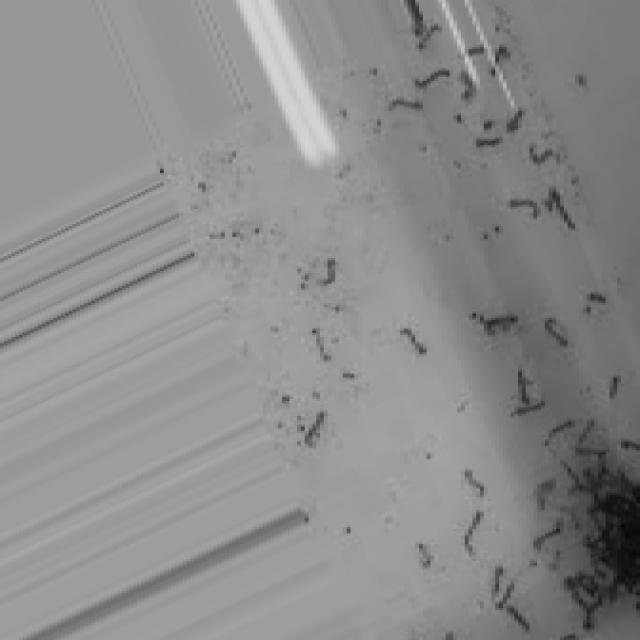larvas: (543, 191, 574, 227), (540, 419, 572, 445), (462, 510, 480, 556), (400, 1, 426, 32), (309, 327, 332, 361), (584, 597, 606, 630), (543, 317, 568, 346), (527, 527, 556, 551), (510, 400, 553, 416), (482, 312, 516, 332), (415, 23, 437, 53), (500, 579, 520, 612), (414, 70, 450, 88), (533, 480, 554, 510), (494, 44, 514, 75), (505, 197, 539, 215), (399, 326, 424, 350), (305, 411, 323, 444), (513, 371, 530, 404), (563, 579, 585, 604), (532, 147, 562, 165), (412, 544, 432, 571), (462, 469, 485, 492), (583, 292, 606, 314), (322, 256, 338, 285), (562, 462, 581, 486), (583, 532, 608, 550), (508, 607, 528, 629), (560, 506, 579, 529), (458, 70, 472, 100), (577, 420, 597, 441), (488, 568, 504, 594), (605, 376, 622, 399), (506, 111, 524, 131), (388, 98, 422, 108), (616, 439, 640, 453), (619, 469, 635, 490), (582, 574, 598, 594), (473, 136, 499, 148), (585, 470, 597, 496), (585, 510, 600, 530), (590, 556, 602, 578), (610, 583, 621, 605), (465, 46, 485, 56), (602, 512, 612, 532), (560, 631, 579, 640), (576, 449, 610, 454), (598, 455, 607, 473), (567, 487, 583, 496), (445, 630, 456, 640), (635, 591, 640, 610)
